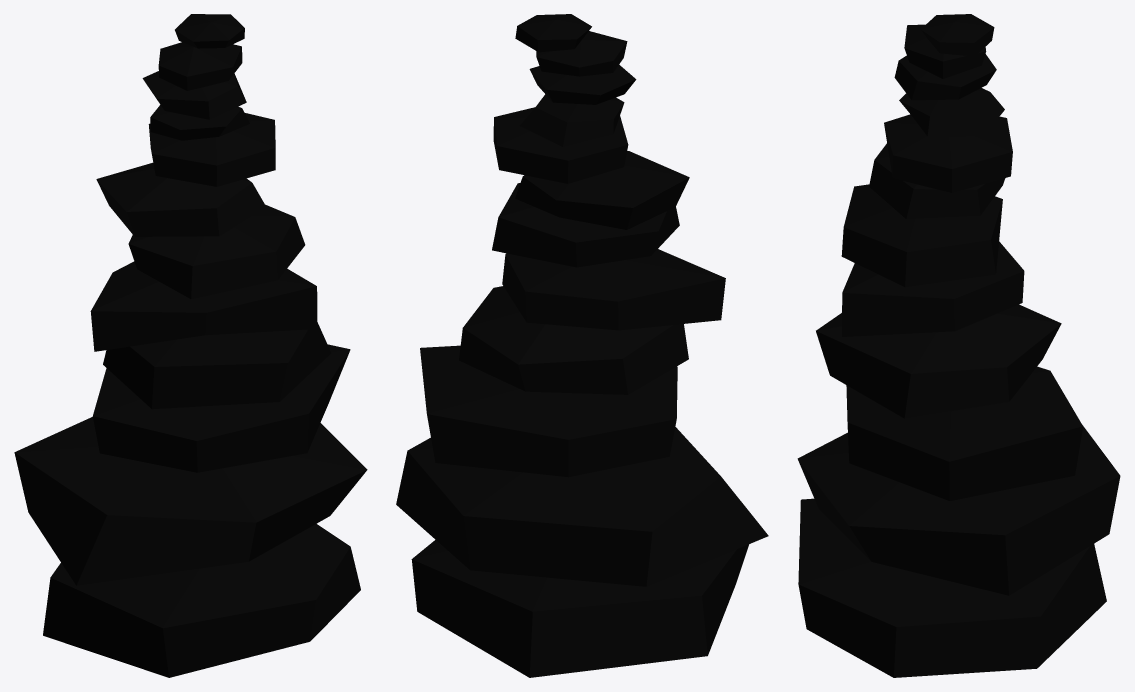
Rendered from SM_cairn.fbx.
The picture shows the model from 3 angles, left to right: view 1: azimuth 30°, elevation 25°; view 2: azimuth 150°, elevation 25°; view 3: azimuth 270°, elevation 25°; orthographic projection. The views are drawn at different scales.
Parts seen in each view (by area): view 1: cairn; view 2: cairn; view 3: cairn.
Boxes of the visible parts, bbox=[...] form: cairn: bbox=[14, 14, 367, 677]; cairn: bbox=[396, 14, 768, 677]; cairn: bbox=[797, 14, 1120, 677].
Bounding box in the file's own units: 0.6115 × 1.14 × 0.5349.
